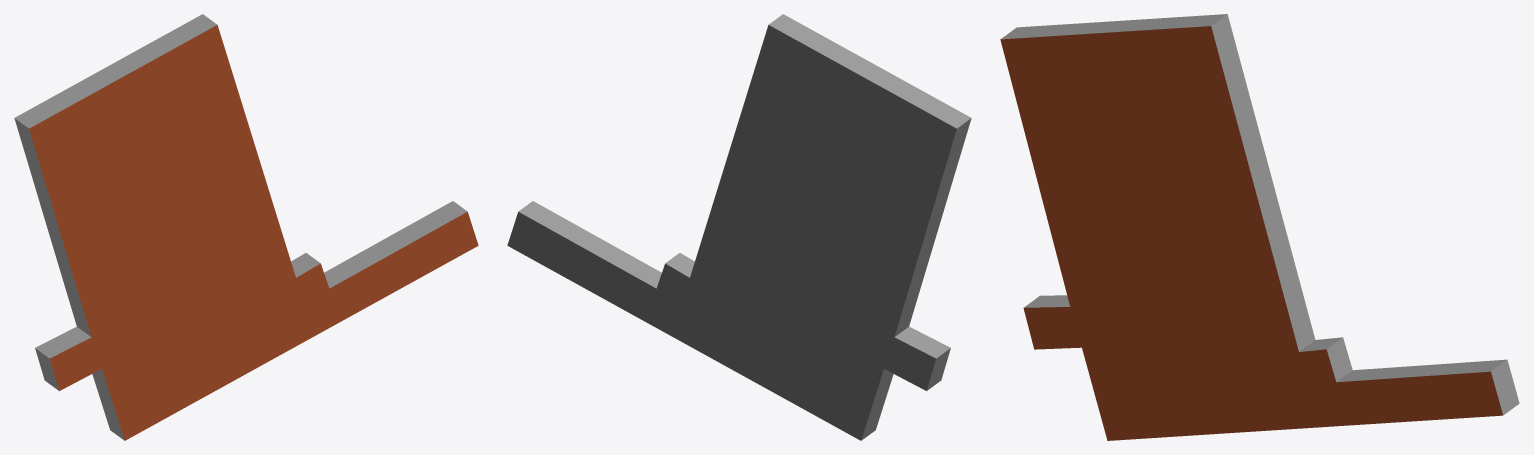
Rendered from construction_0112_assumed_A_Grande_construcao_h6m.obj.
3 views of the same model, side by side, from view 1: azimuth 30°, elevation 25°; view 2: azimuth 150°, elevation 25°; view 3: azimuth 330°, elevation 25° (orthographic). The views are drawn at different scales.
Parts seen in each view (by area): view 1: construction_0112_assumed_A_Grande_construcao; view 2: construction_0112_assumed_A_Grande_construcao; view 3: construction_0112_assumed_A_Grande_construcao.
Part boxes in pixels (x1,y1,x2,y2): construction_0112_assumed_A_Grande_construcao: [14, 14, 478, 440]; construction_0112_assumed_A_Grande_construcao: [507, 14, 971, 440]; construction_0112_assumed_A_Grande_construcao: [1000, 14, 1519, 440].
Bounding box in the file's own units: 106 × 88.52 × 6.
